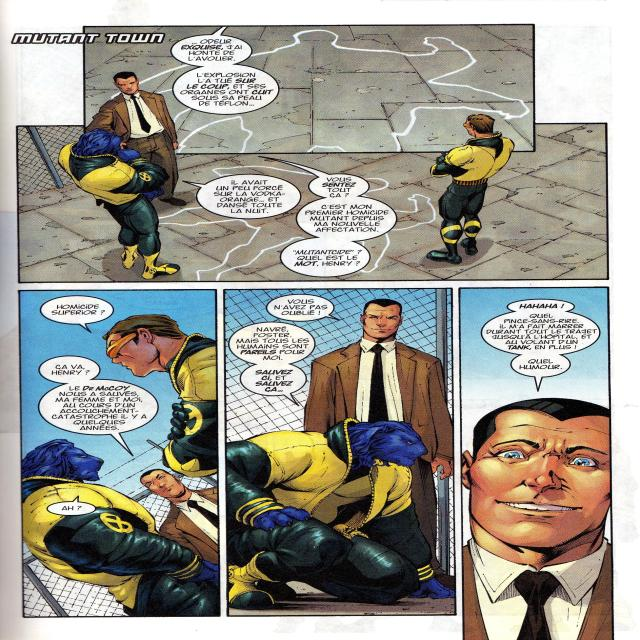comic_panel: (11, 23, 609, 284), (223, 287, 458, 617), (19, 289, 221, 618), (459, 287, 614, 640)
